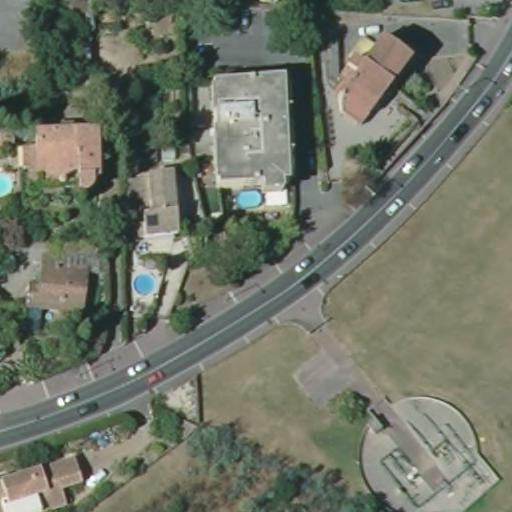pool: (231, 187, 264, 210), (130, 272, 156, 297), (0, 168, 15, 197)
